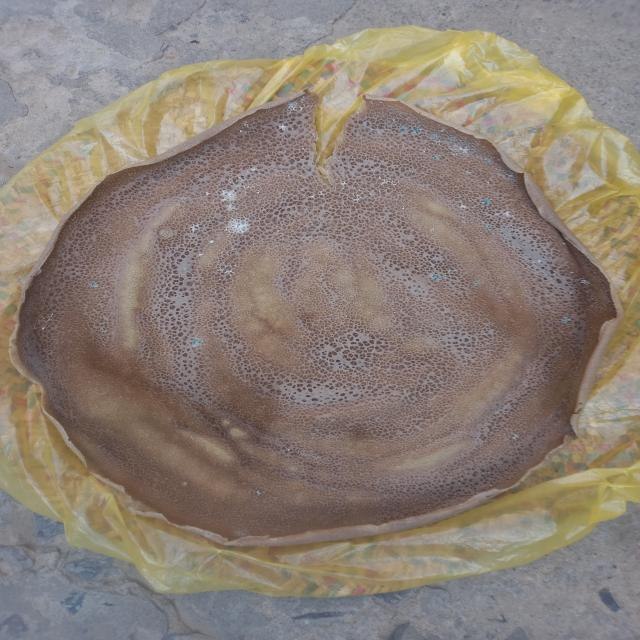injera_mold: (227, 161, 272, 195), (204, 188, 238, 212), (221, 216, 254, 235), (30, 312, 59, 332), (284, 96, 312, 115), (565, 272, 593, 288), (373, 174, 403, 188), (212, 265, 241, 277), (237, 120, 258, 134), (448, 147, 470, 158), (350, 189, 369, 201), (190, 337, 203, 348), (505, 169, 518, 180), (428, 272, 442, 282), (188, 223, 202, 232), (559, 316, 572, 324), (480, 198, 493, 206), (482, 159, 495, 166), (428, 154, 442, 160), (180, 480, 190, 488), (98, 327, 108, 335), (278, 124, 288, 131), (87, 282, 98, 288), (428, 134, 439, 140), (254, 490, 263, 496), (484, 226, 492, 232), (447, 270, 458, 274), (180, 196, 187, 202), (458, 205, 468, 209), (464, 141, 472, 146), (412, 128, 420, 133), (418, 121, 426, 126), (198, 252, 204, 257), (208, 240, 215, 244), (474, 281, 481, 285), (365, 128, 370, 133), (399, 128, 405, 132), (460, 220, 466, 223), (465, 171, 471, 174), (450, 137, 455, 140)
